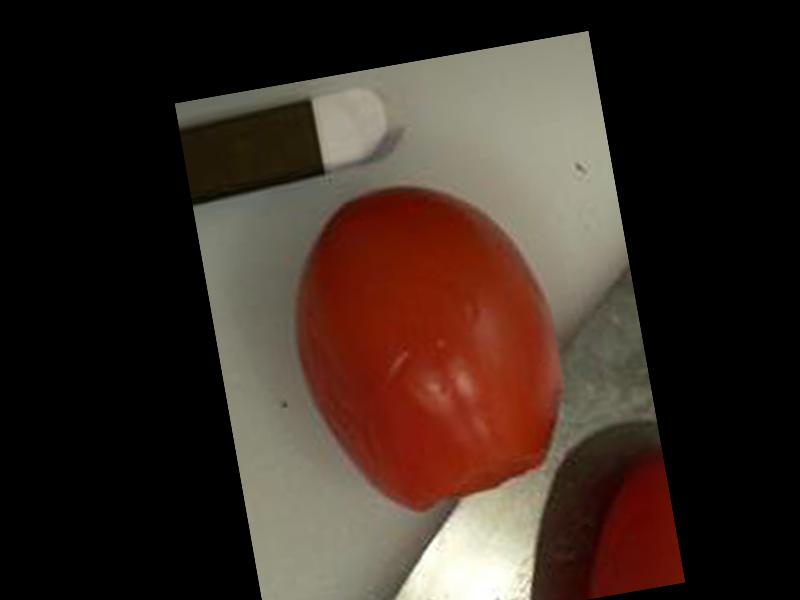Tomato: (273, 163, 583, 526)
